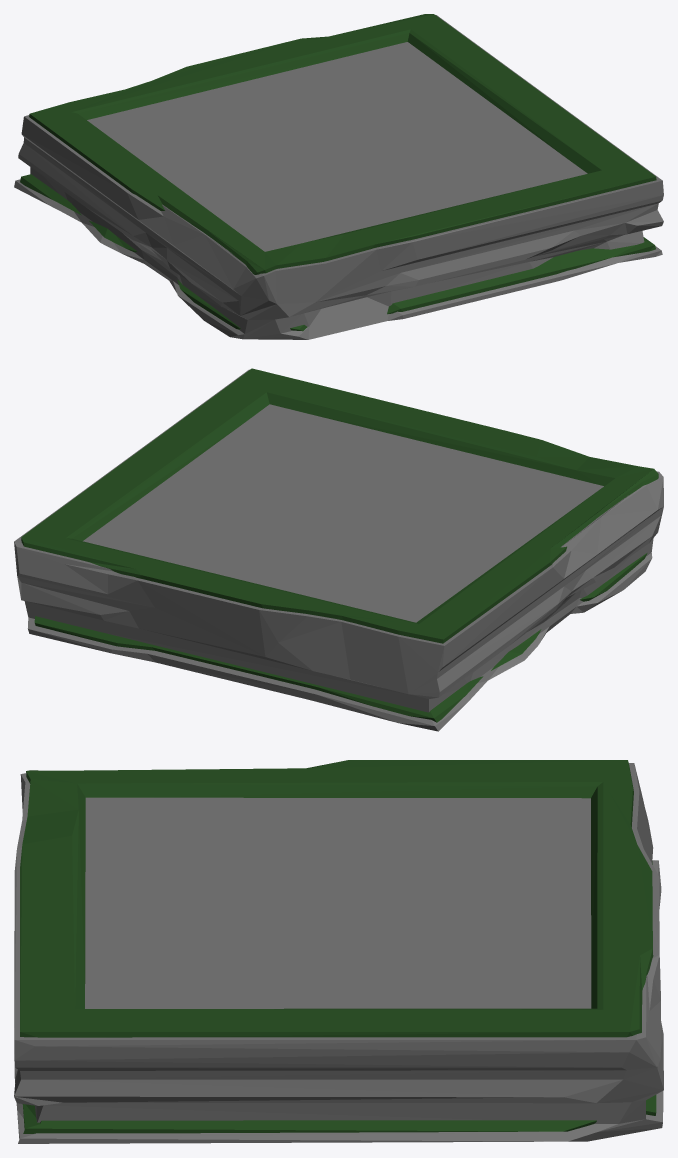
Rendered from SM_ornaments_jungle_01.fbx.
The picture shows the model from 3 angles, top to bottom: view 1: azimuth 30°, elevation 25°; view 2: azimuth 150°, elevation 25°; view 3: azimuth 270°, elevation 25°; orthographic projection. The views are drawn at different scales.
Parts seen in each view (by area): view 1: Object042; view 2: Object042; view 3: Object042.
Boxes of the visible parts, x1,y1,x2,y2 form: Object042: (14,14,663,339); Object042: (14,368,663,731); Object042: (14,760,663,1143).
Bounding box in the file's own units: 301 × 55.41 × 296.
